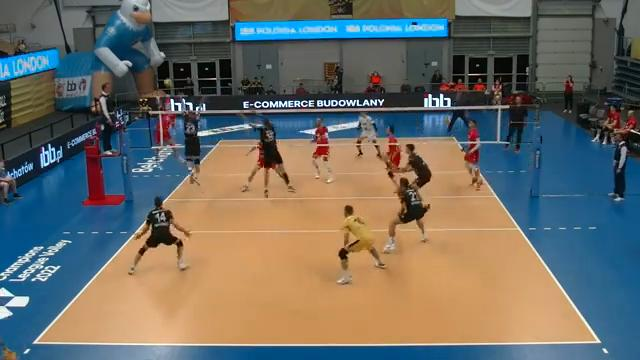attacco: (150, 89, 188, 169)
muro: (173, 91, 205, 189)
